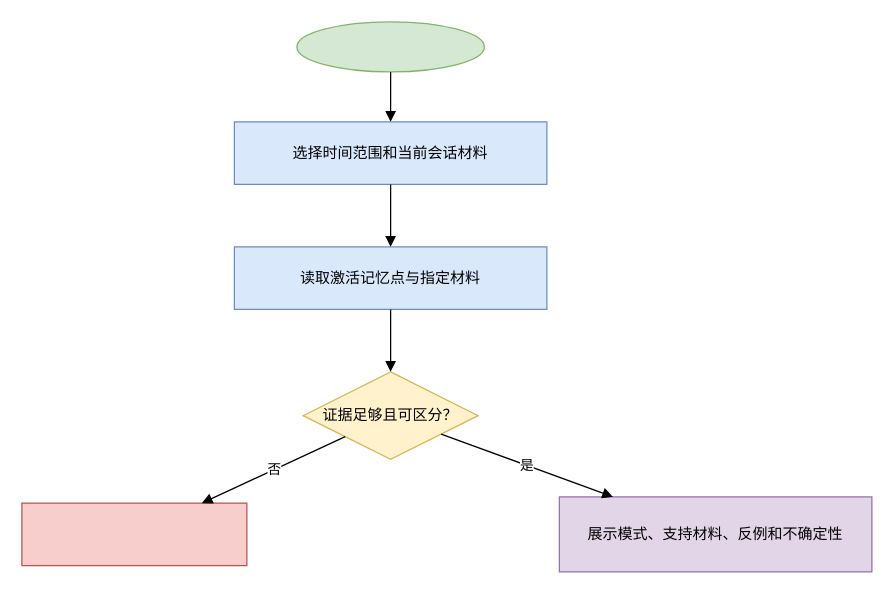
The diagram is 894 pixels wide and 594 high, and some of its shapes have lost their labels. Here are the shapes that lost their labels. From the top down, the centre of each, then its label:
At point (390, 46): "用户请求复盘".
At point (134, 534): "说明目前无法判断".
